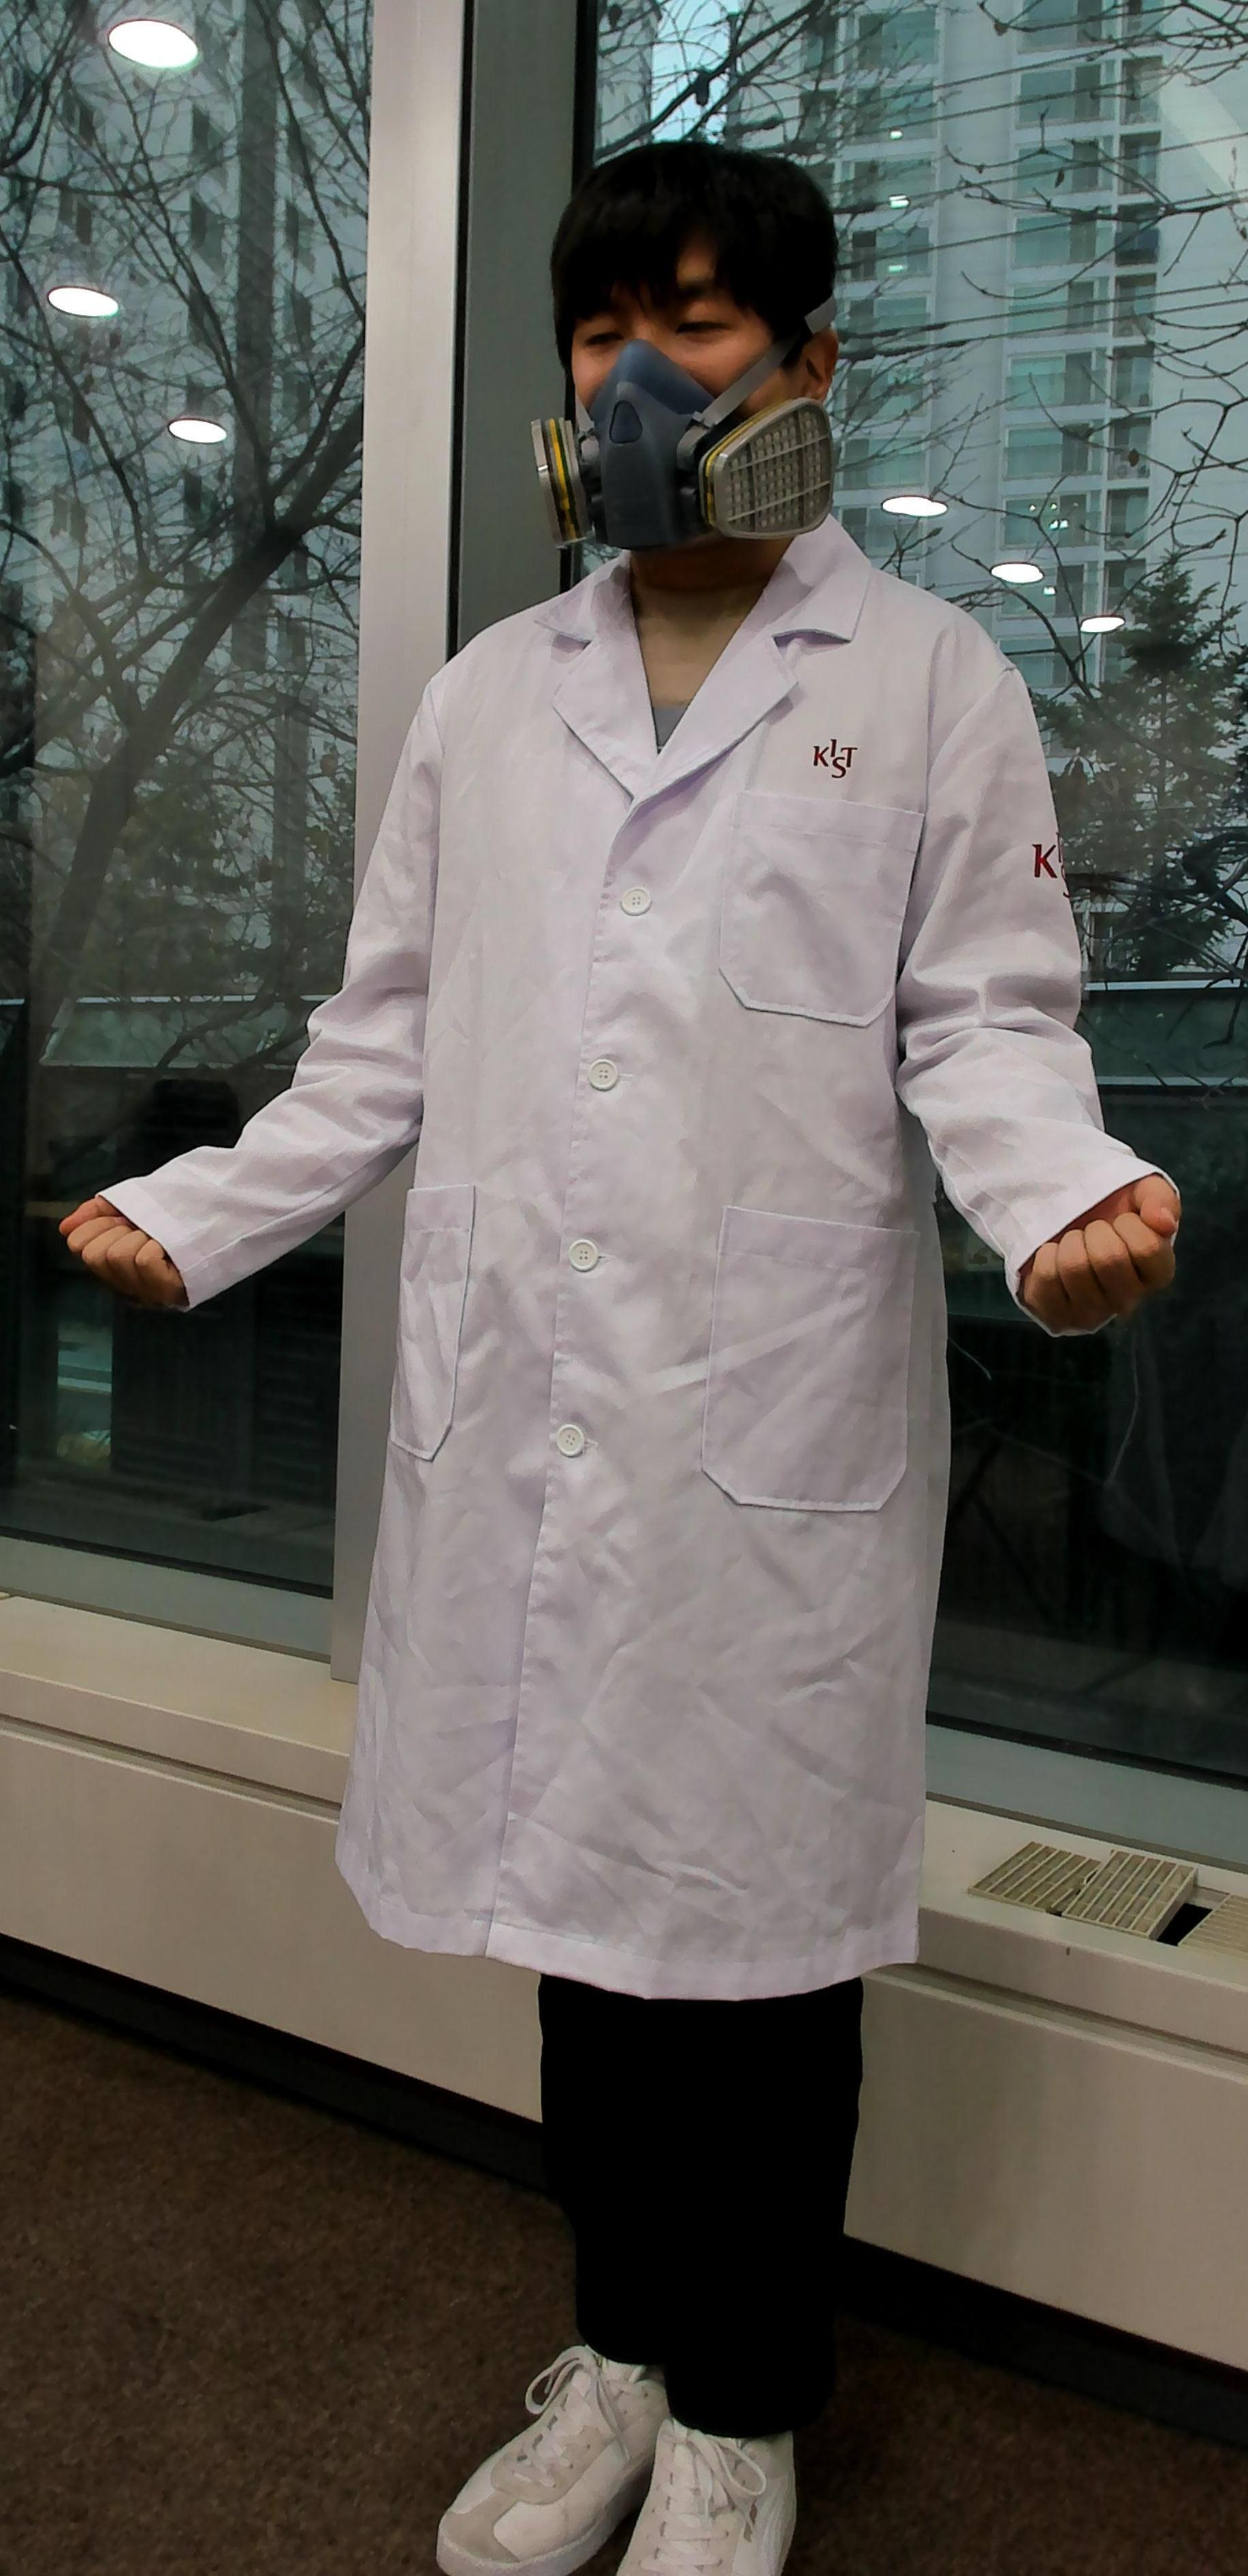lab_coat: (389, 662, 939, 1957)
